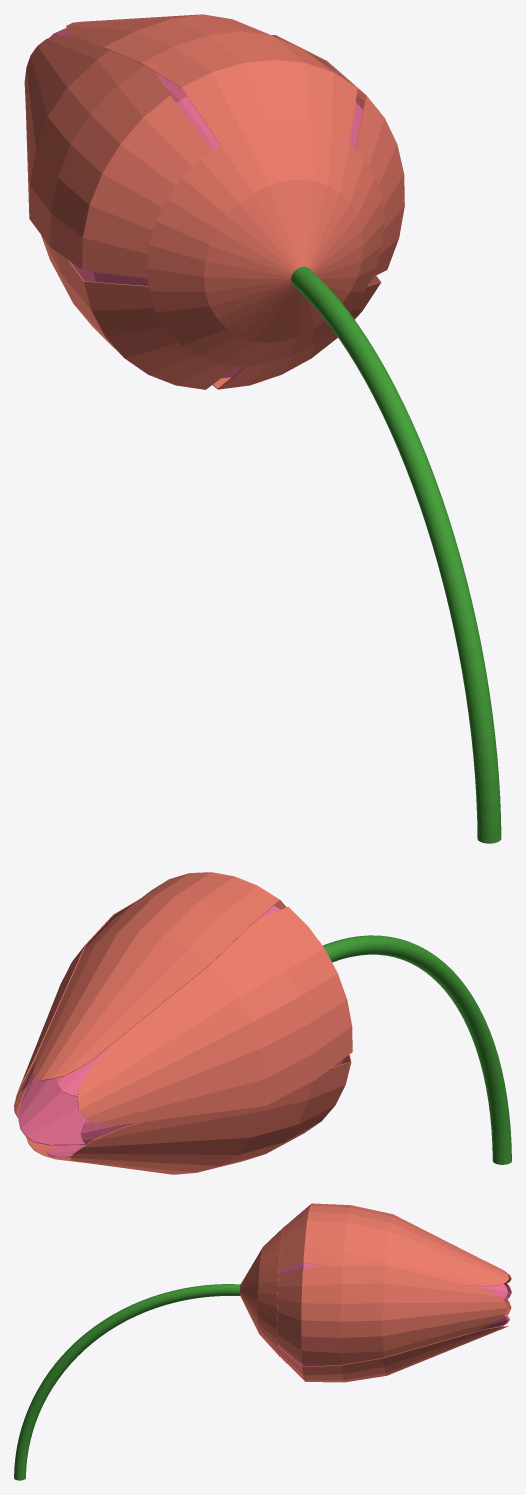
File: enemy_gun.fbx
3 views of the same model, one above another, from view 1: azimuth 30°, elevation 25°; view 2: azimuth 150°, elevation 25°; view 3: azimuth 270°, elevation 25° (orthographic). The views are drawn at different scales.
Visible parts, largest first — view 1: Petal.011; view 2: Petal.011; view 3: Petal.011.
Boxes of the visible parts, x1,y1,x2,y2 form: Petal.011: (24, 14, 501, 843); Petal.011: (14, 872, 511, 1174); Petal.011: (14, 1203, 511, 1480).
Bounding box in the file's own units: 52.95 × 90.07 × 147.
